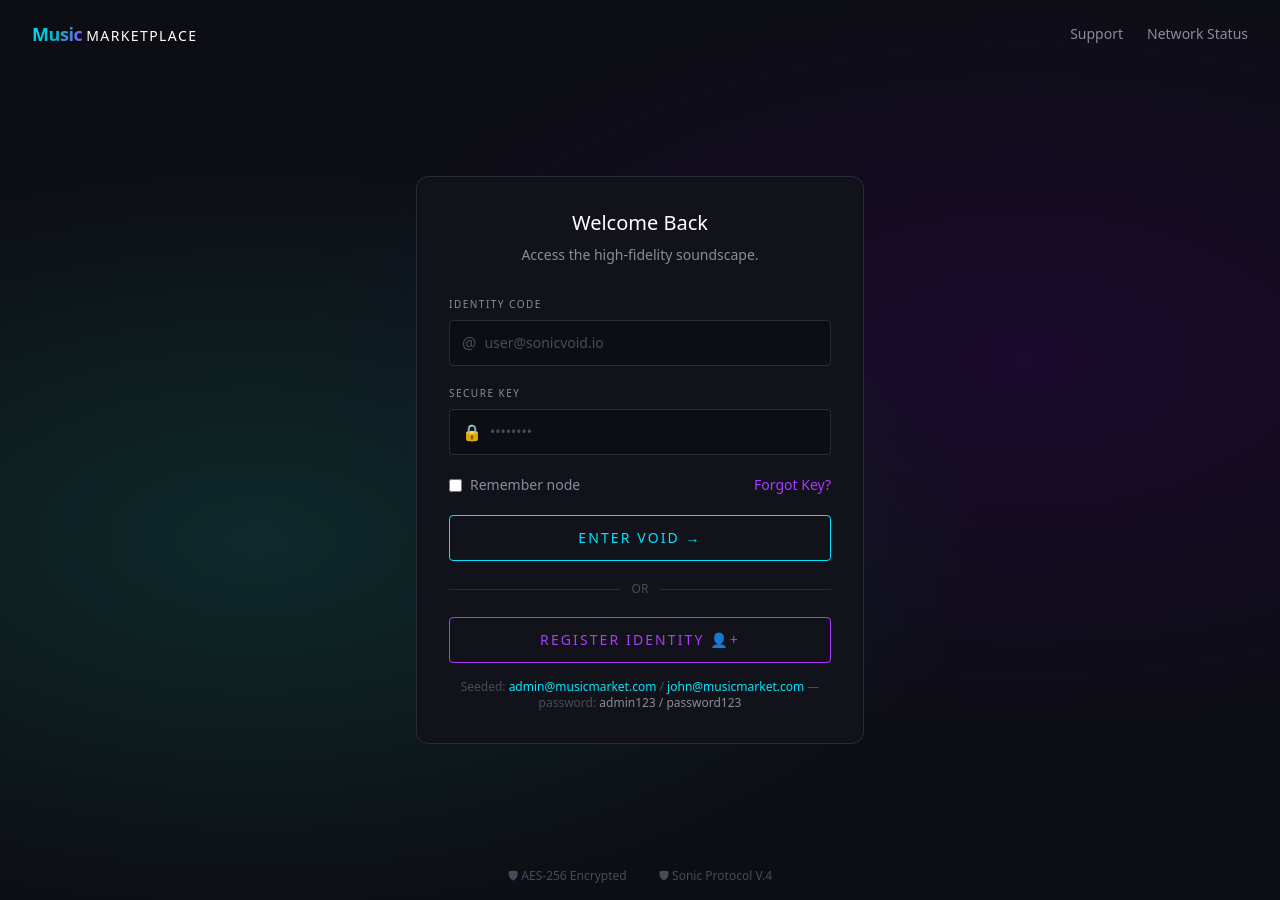
Test: LoginPage › switches to register mode
Step 1. Click the button "Register Identity 👤+" → (640, 640), box [449, 617, 831, 663]
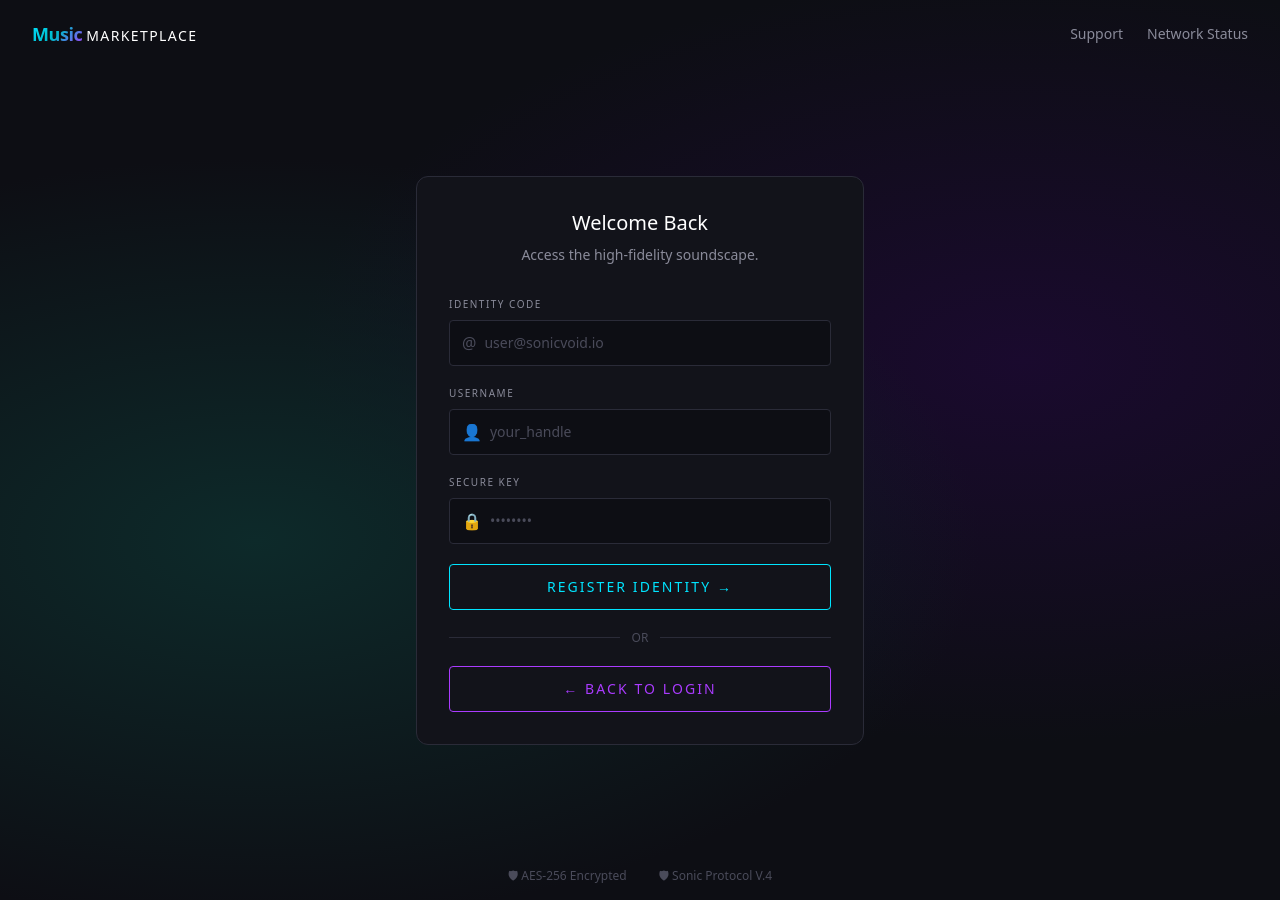
Now the field with placeholder "your_handle" is shown, box [490, 422, 818, 442]
Now the button "Register Identity →" is shown, box [449, 564, 831, 610]
Now the button "← Back to Login" is shown, box [449, 666, 831, 712]
